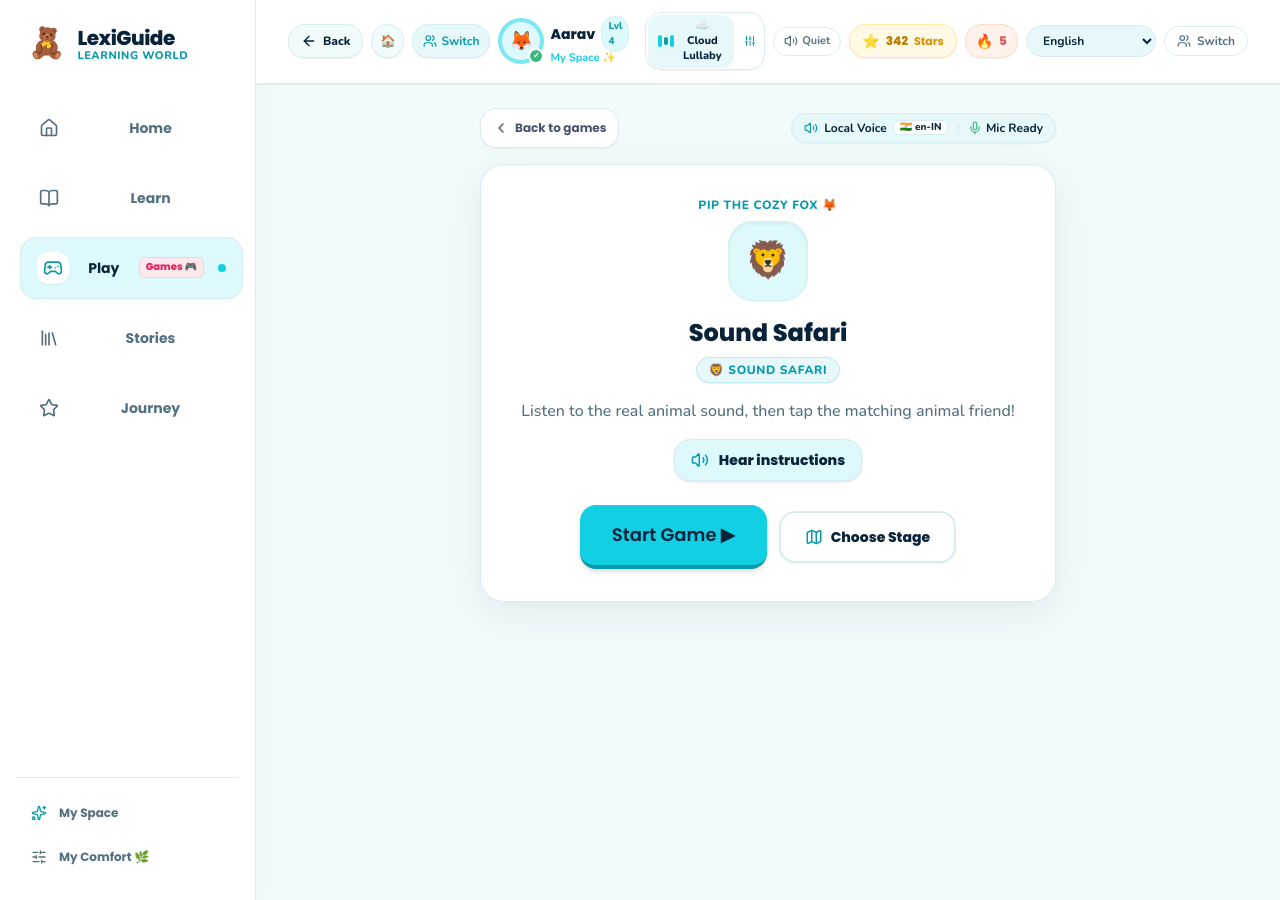
Scenario: core child journey › Sound Safari (game): shows live score, hint, and finishes with next activity
The width and height of the screenshot is (1280, 900).
Click the button "Start Game ▶" at x=673, y=536, box [580,504,767,568]
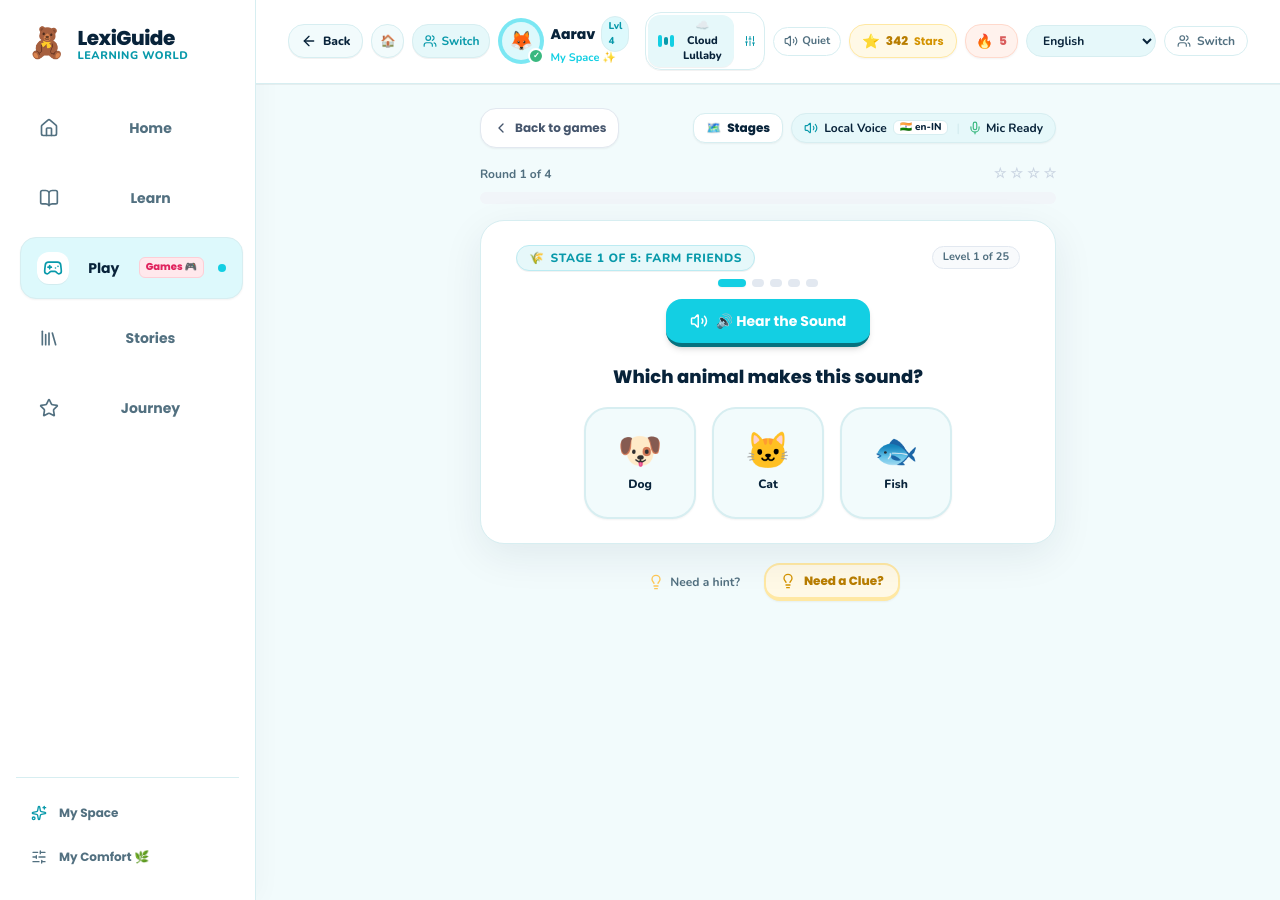
Expected: the text "Round 1 of 4" is shown, [480,166,552,182]
Click the button "Need a hint?" at x=694, y=582, box [636,560,752,604]
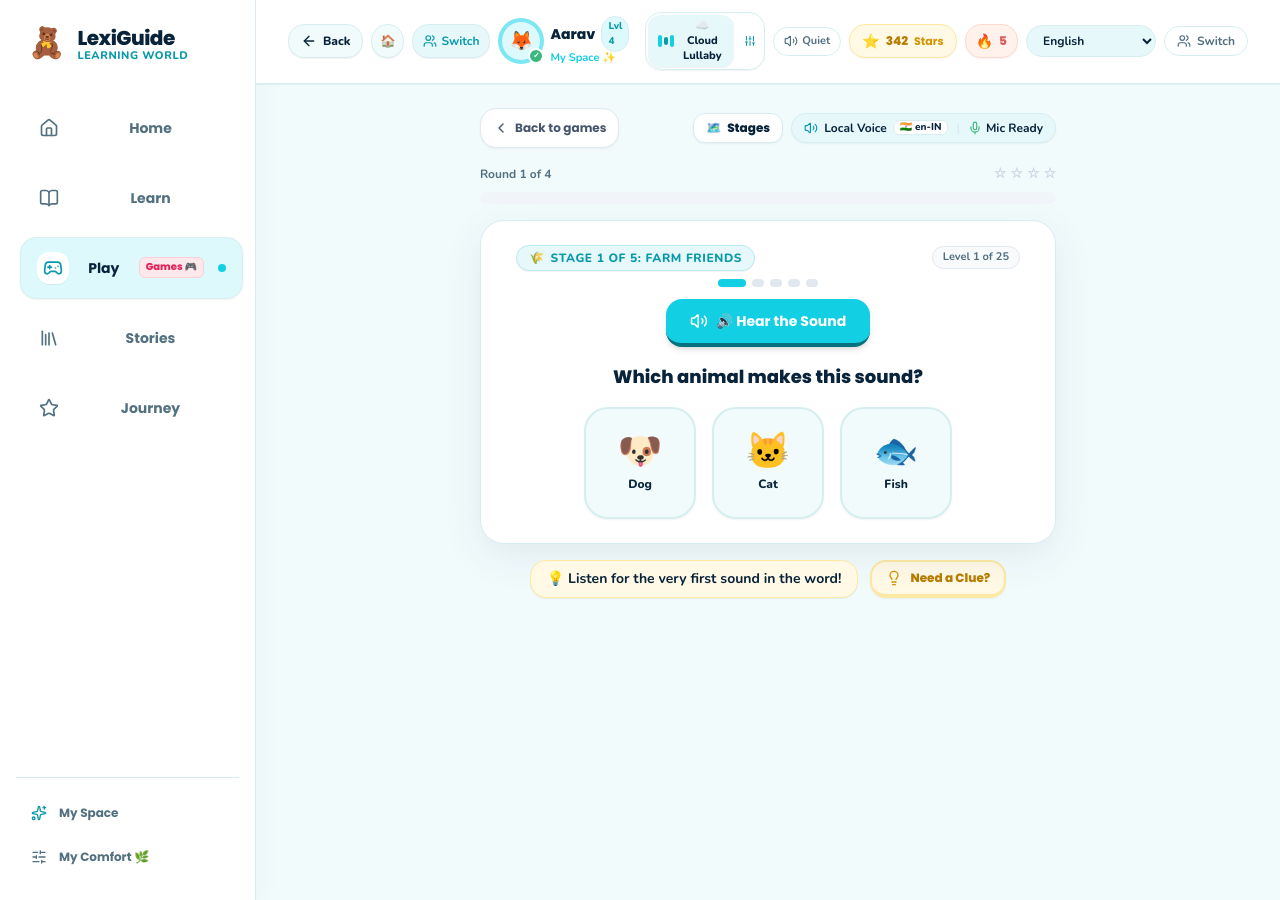
Expected: the button "🐶 Dog" is shown
Expected: the text "💡 Listen for the very first sound in the word!" is shown, [530,560,858,598]
Click the button "🐶 Dog" at x=640, y=462, box [584,406,696,518]
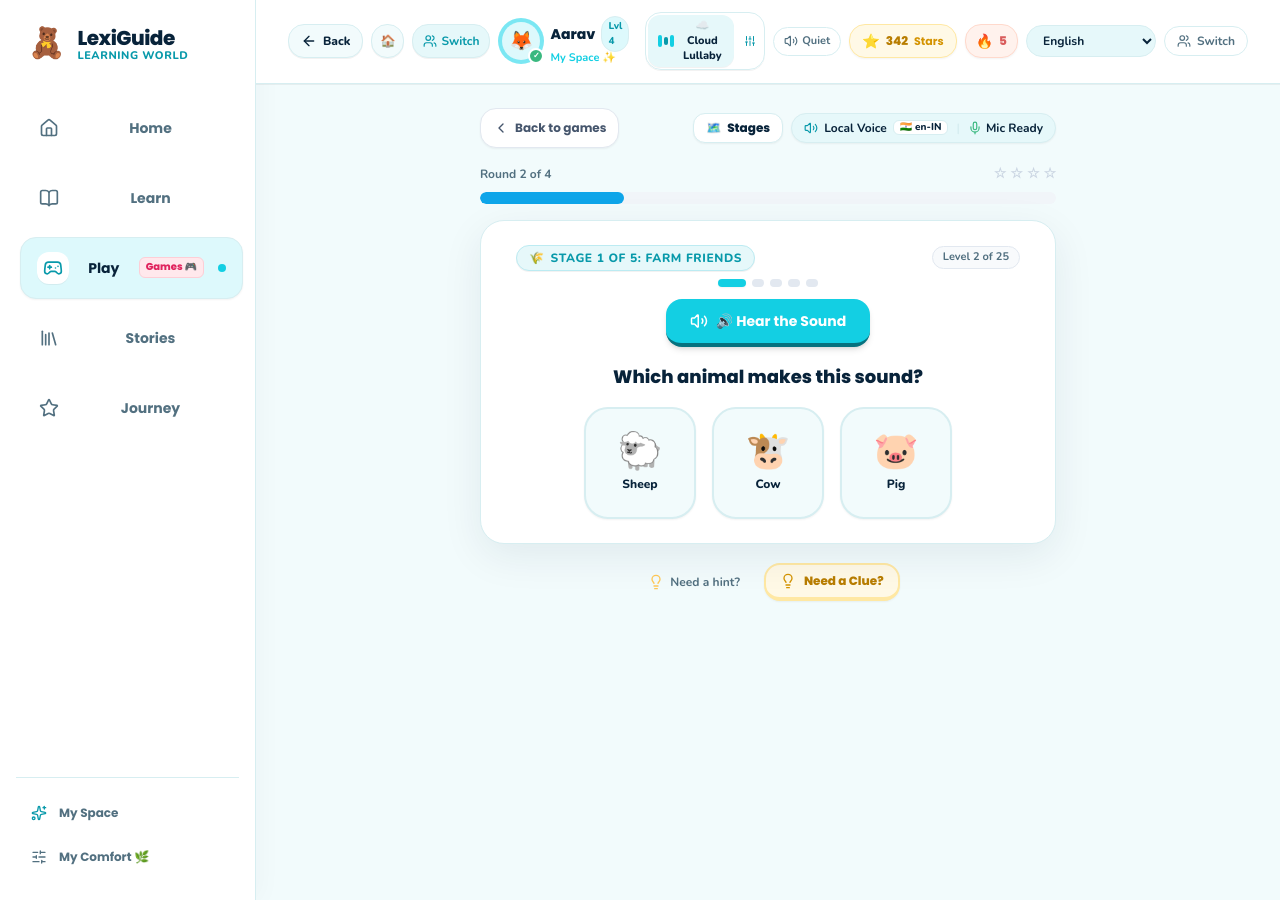
Expected: the button "🐑 Sheep" is shown
Click the button "🐑 Sheep" at x=640, y=462, box [584,406,696,518]
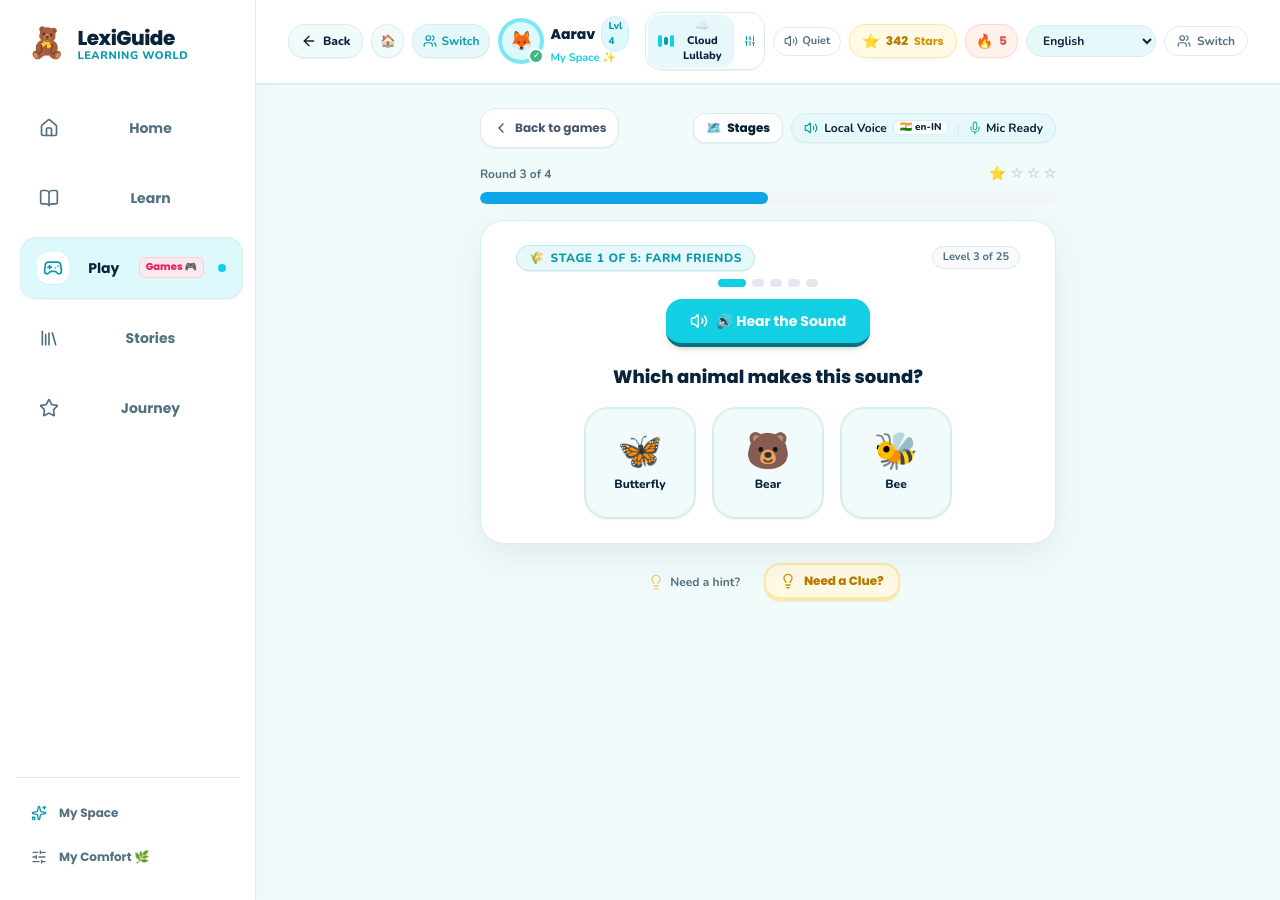
Expected: the button "🦋 Butterfly" is shown
Click the button "🦋 Butterfly" at x=640, y=462, box [584,406,696,518]
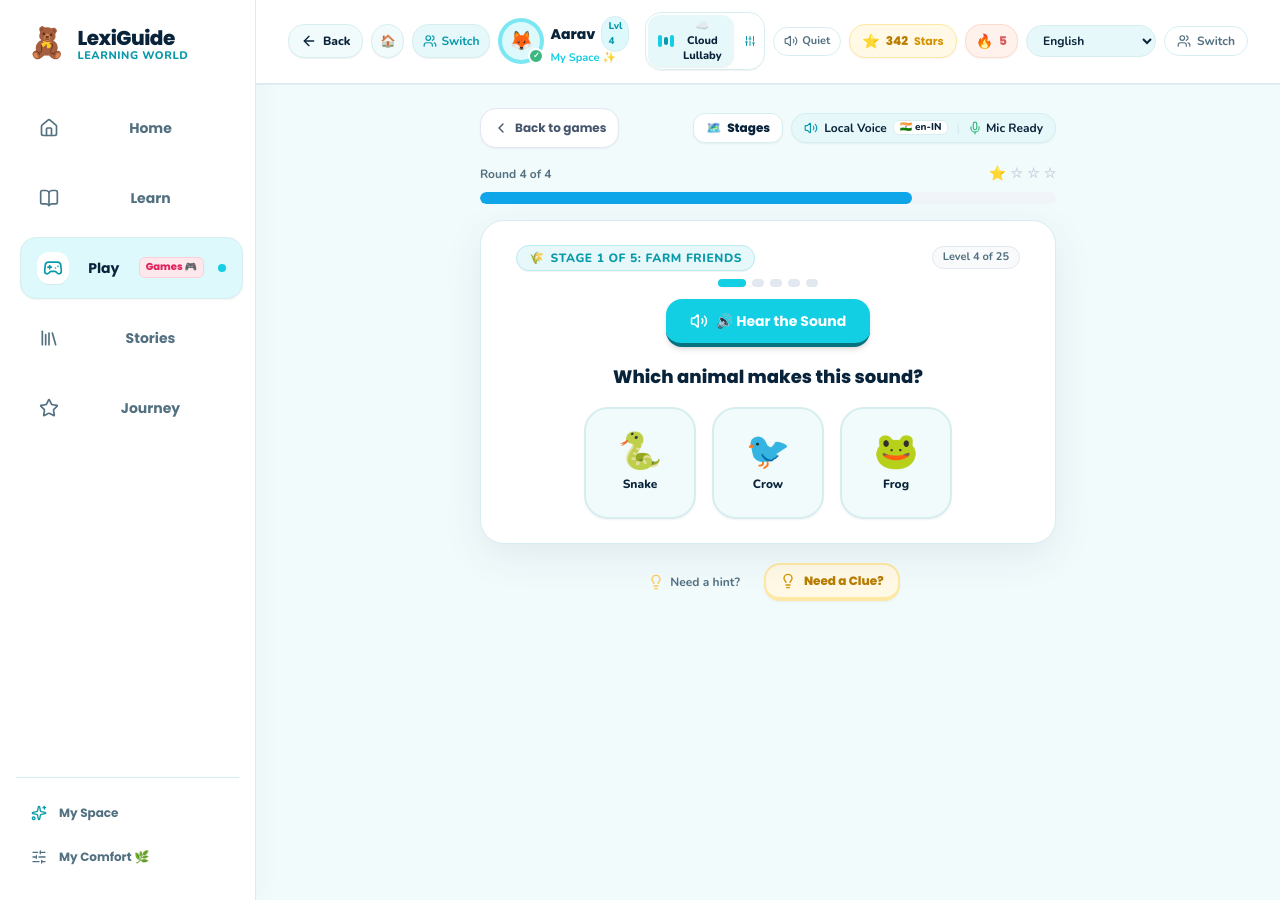
Expected: the button "🐍 Snake" is shown
Click the button "🐍 Snake" at x=640, y=462, box [584,406,696,518]
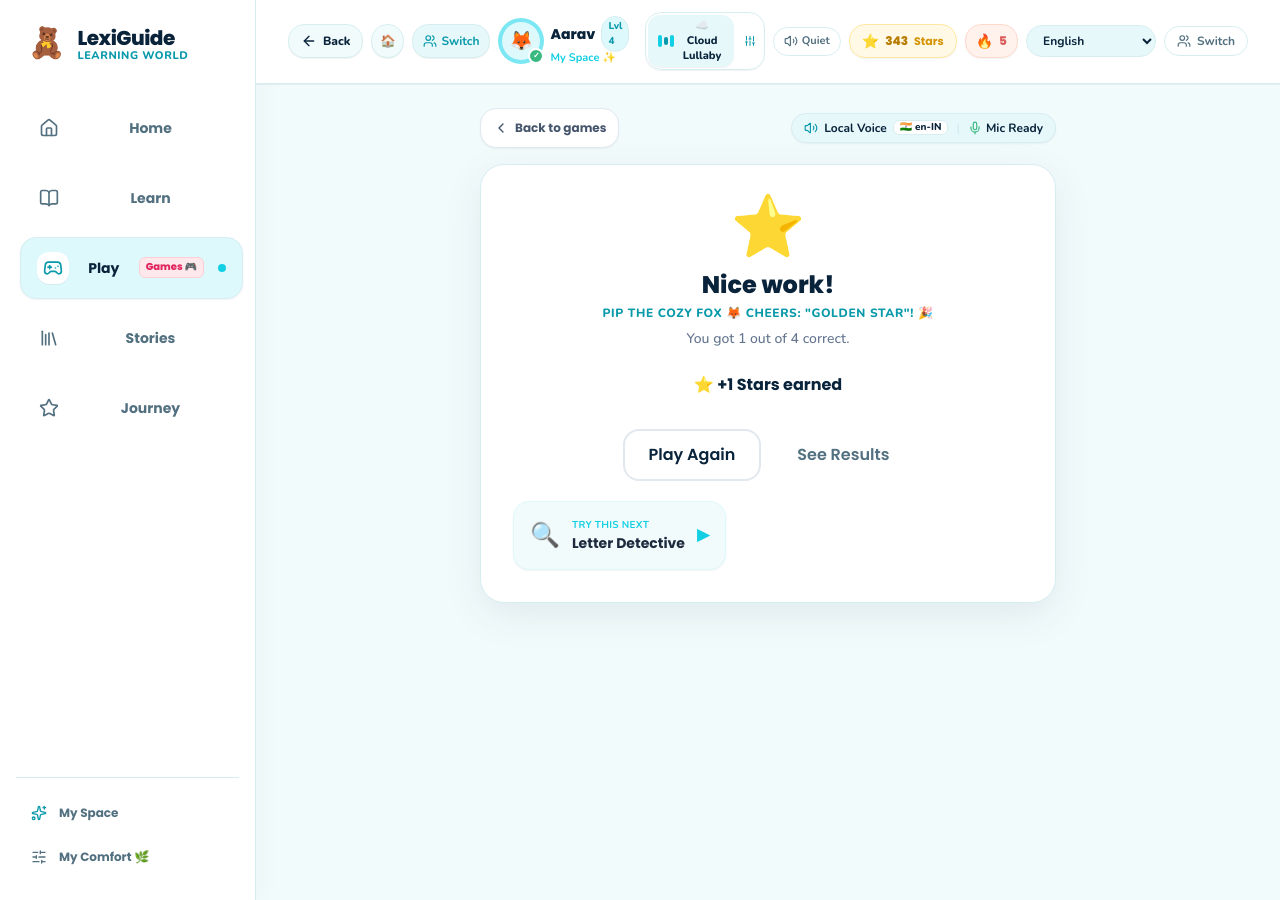
Expected: the heading "Nice work!" is shown, [702,268,834,300]
Expected: the text "Try This Next" is shown, [572,518,649,532]
